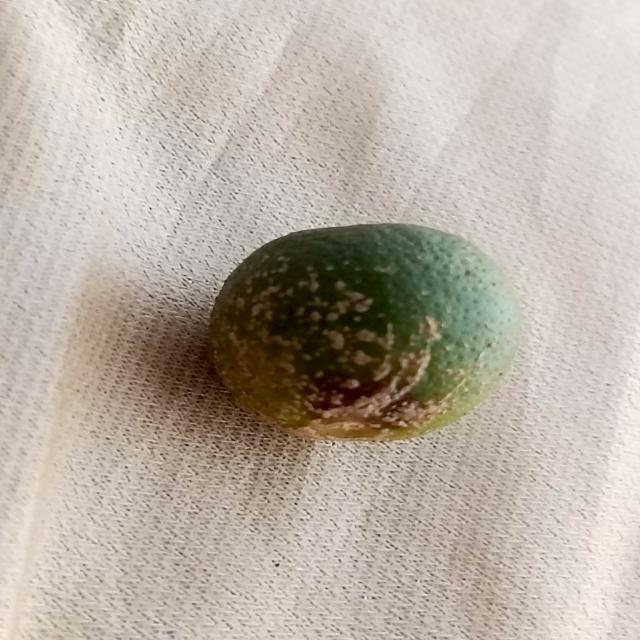scab: (204, 213, 508, 444)
